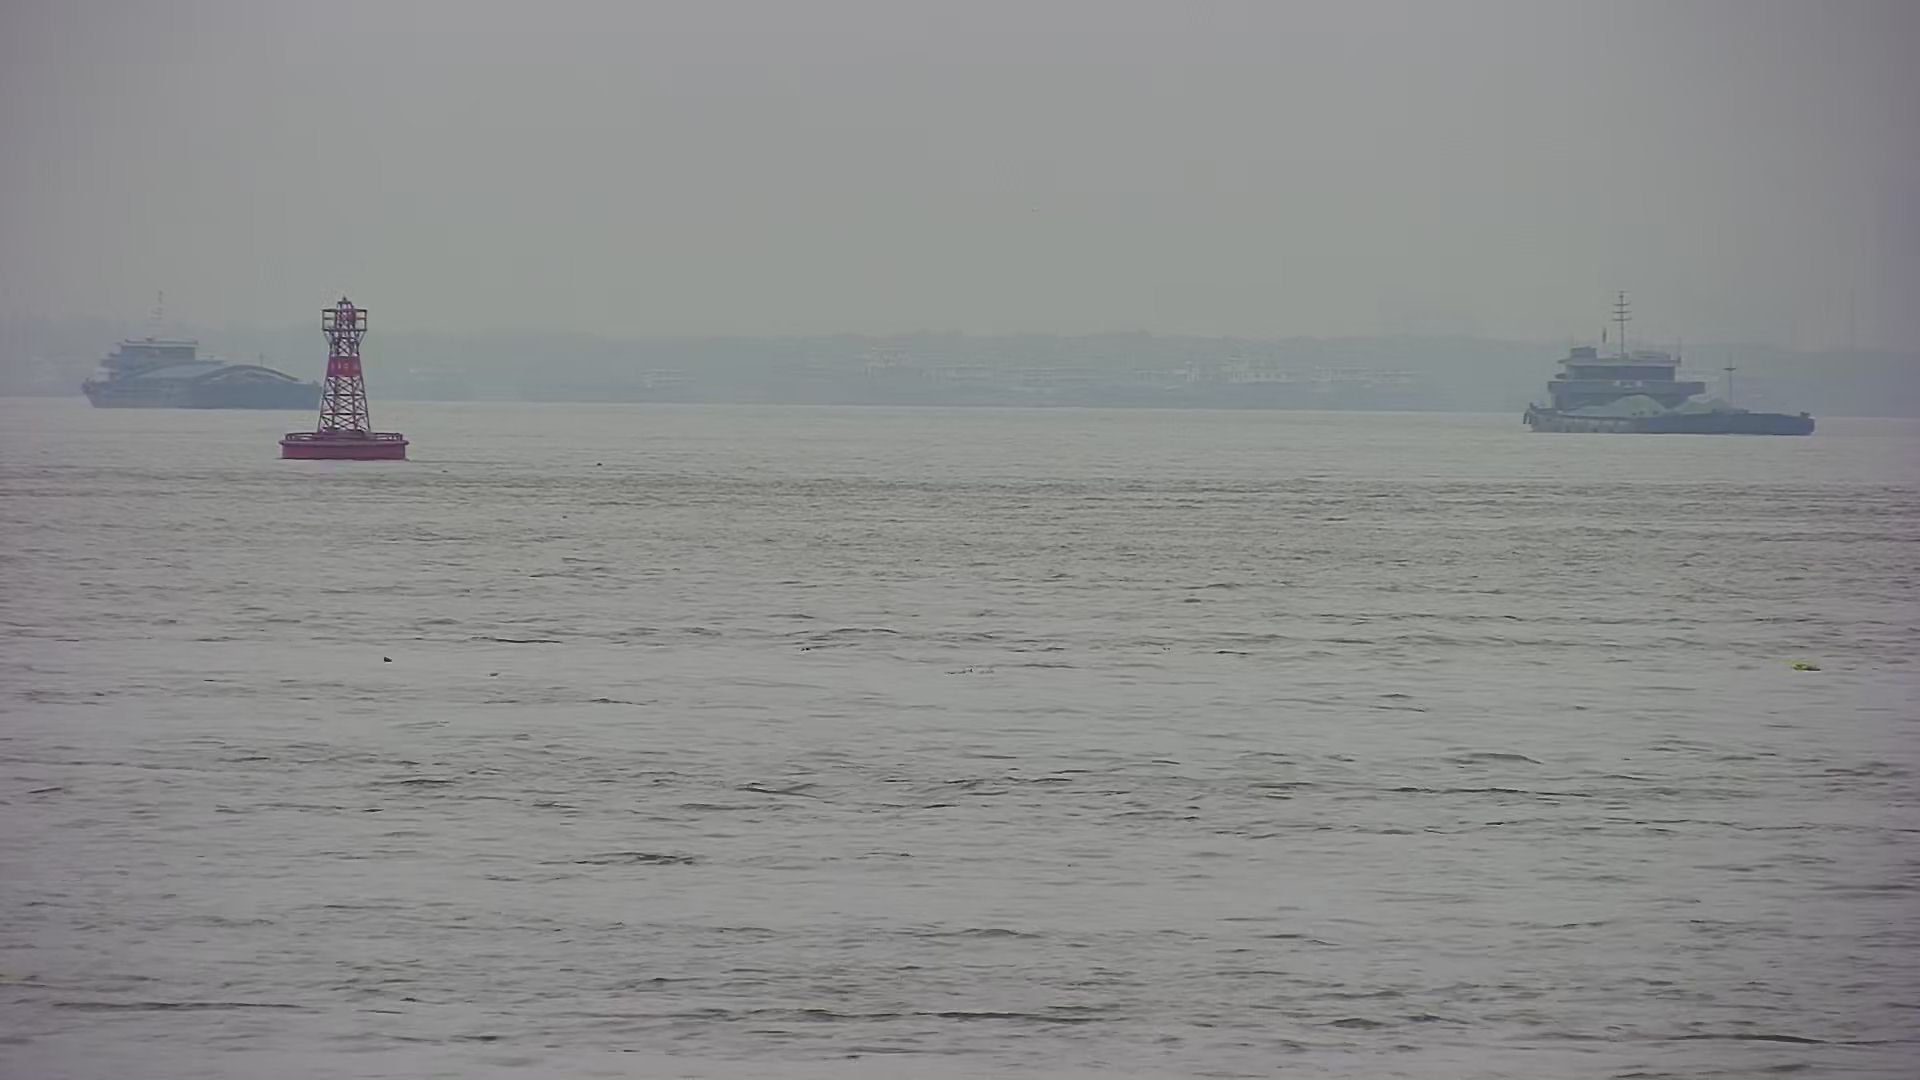boat: (1515, 302, 1833, 440), (65, 277, 332, 419)
buoy: (274, 287, 419, 473)
